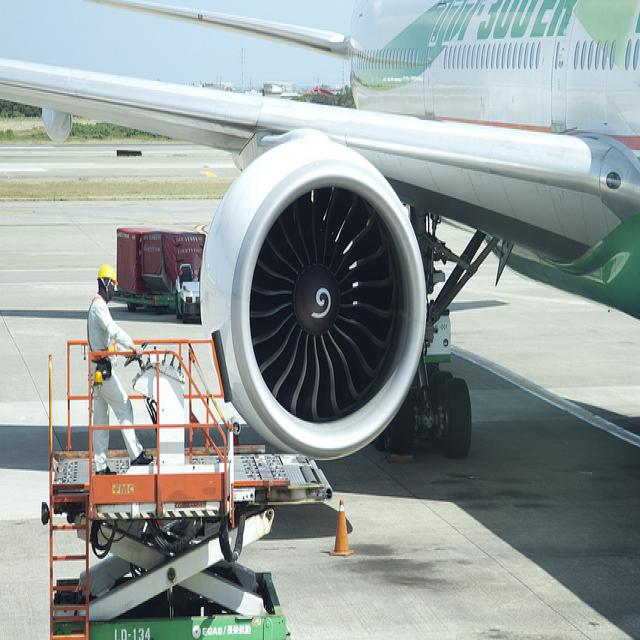airplane: (0, 0, 639, 465)
